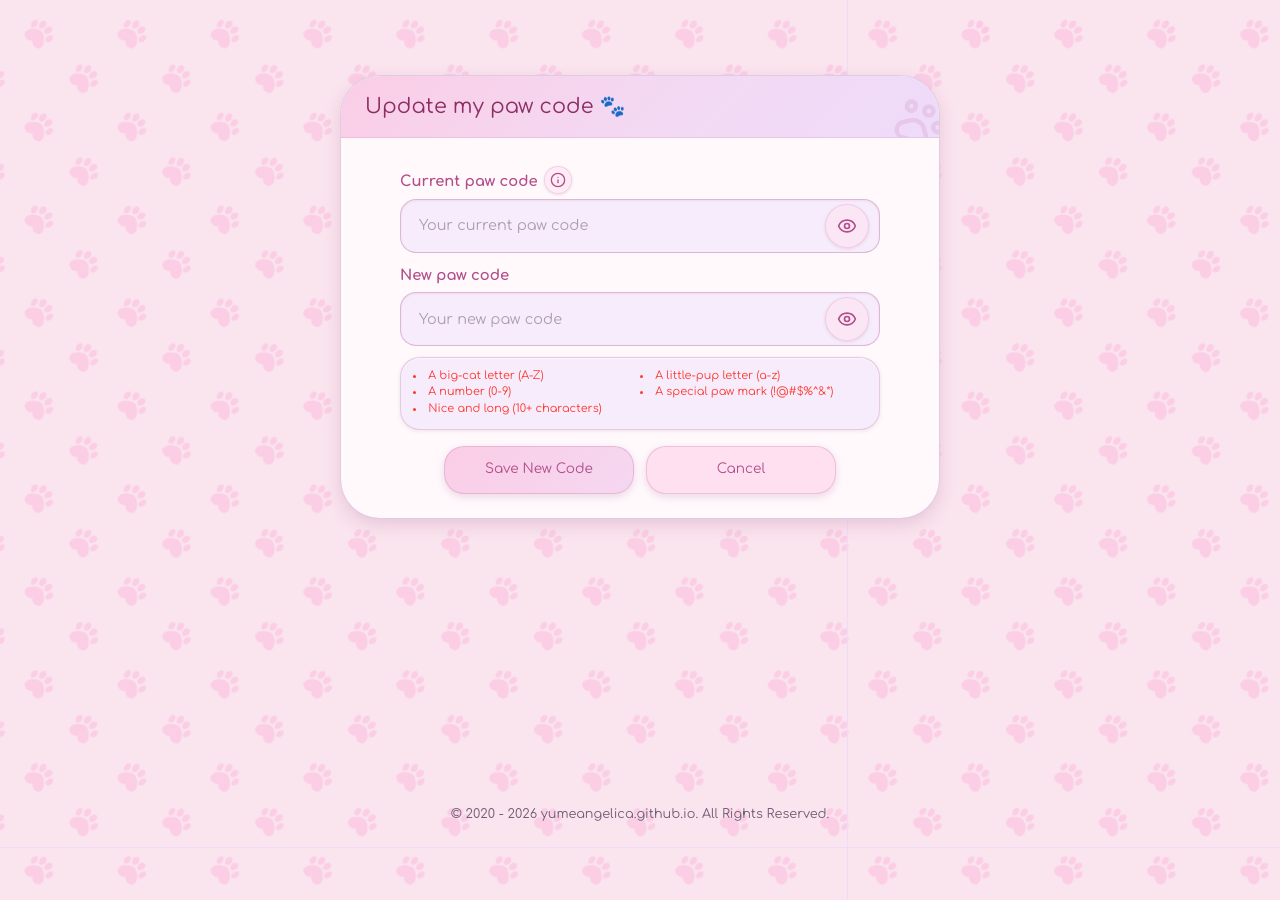
Test: PageChangePassword behaviour › surfaces field errors and the message when the change fails
In the password field with id "changepw-current-password": (640, 226) [401, 200, 879, 252], type "current-code"
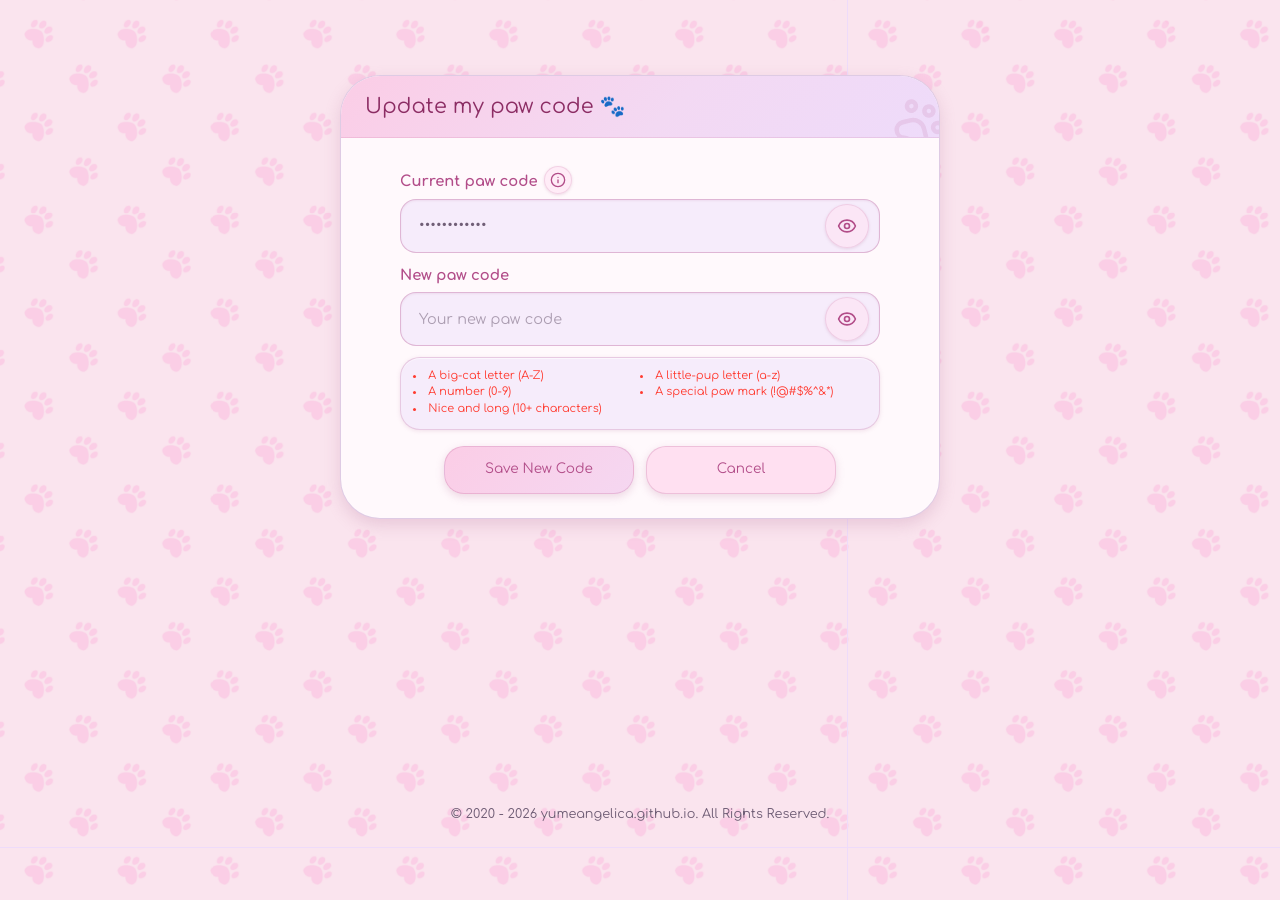
In the password field with id "changepw-new-password": (640, 319) [401, 293, 879, 345], type "NewPawCode1!"
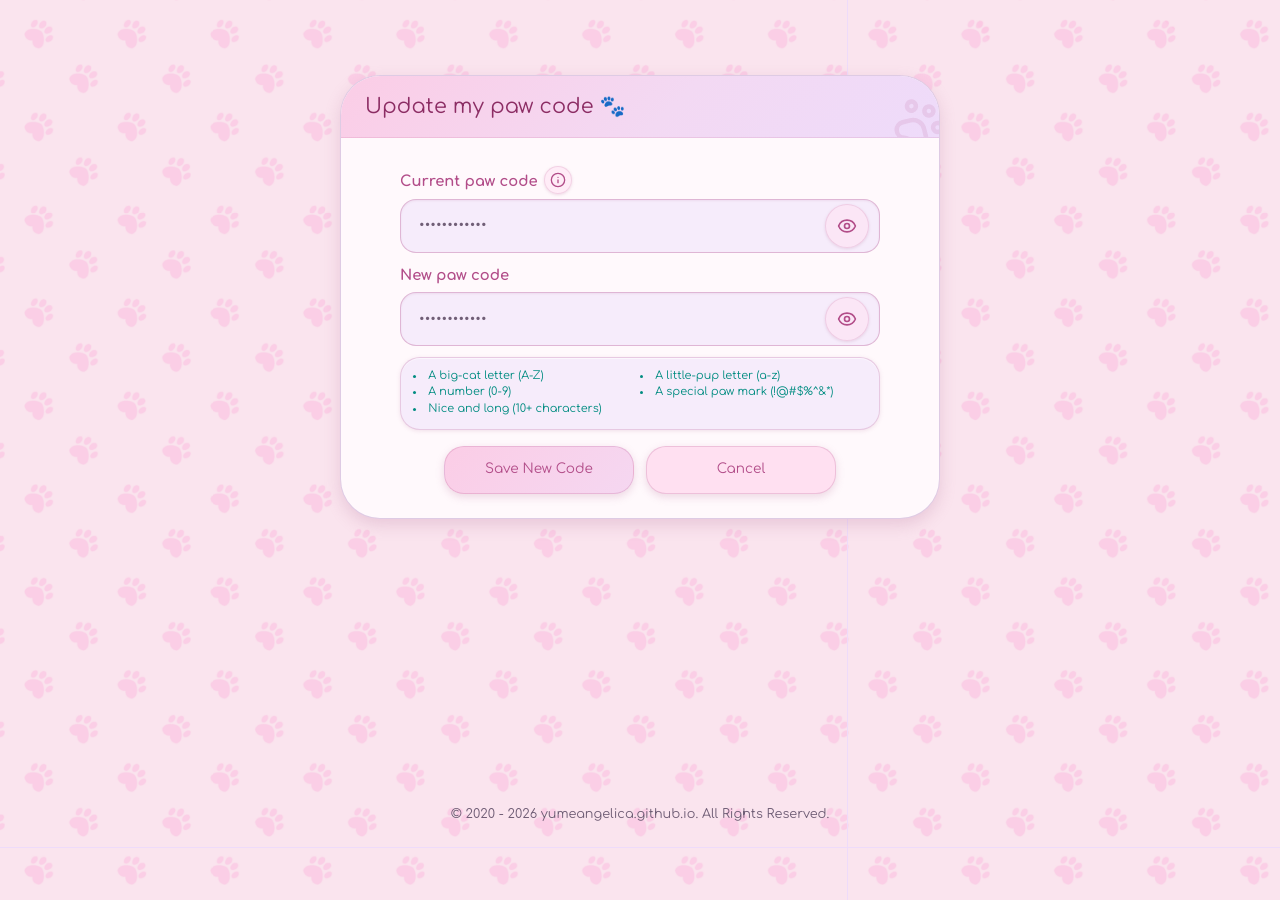
Submit the form, box [400, 162, 880, 494]
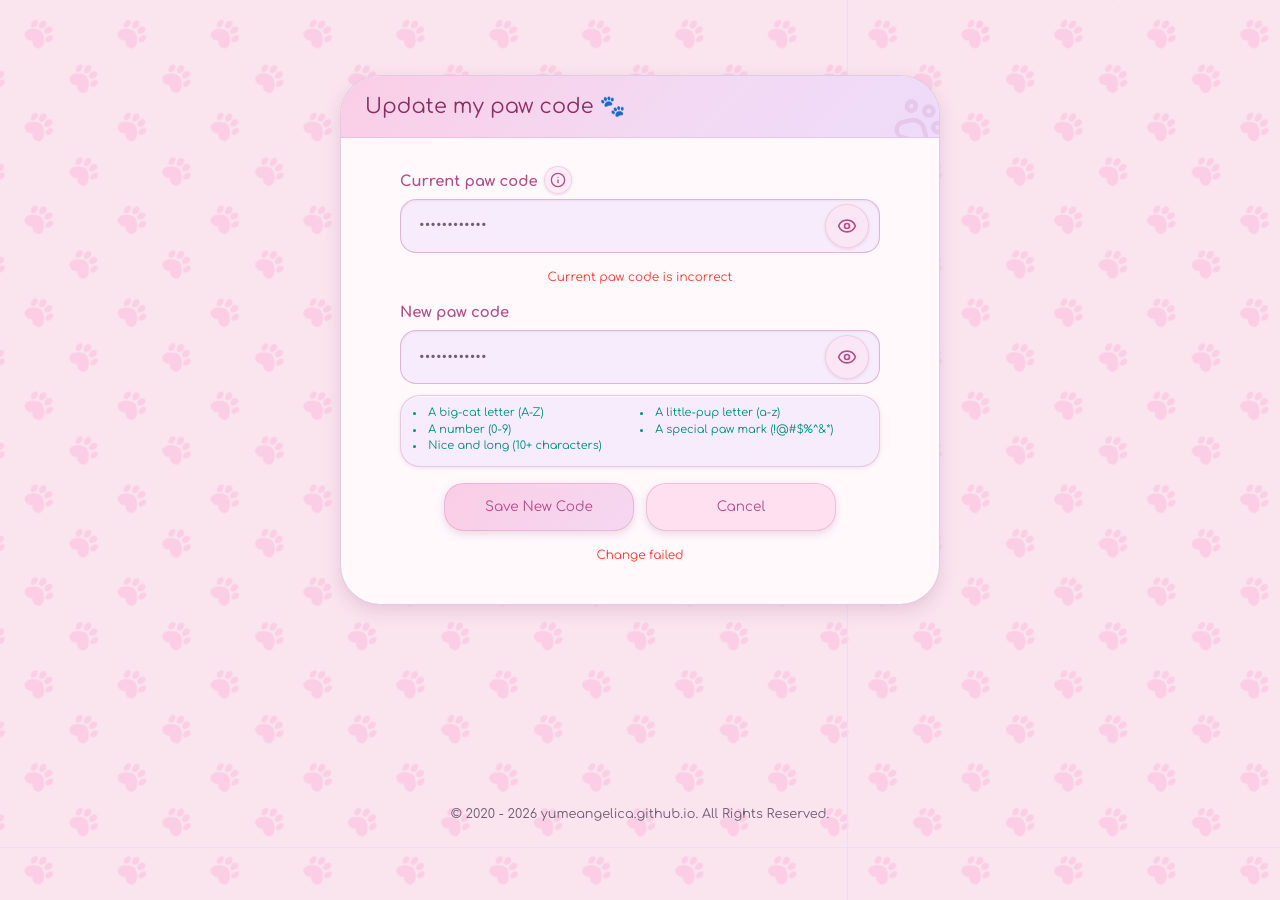
Expected: the message with id "changepw-current-error" reads "Current paw code is incorrect", [548, 270, 732, 284]
Expected: the text "Change failed" is shown, [596, 548, 684, 562]
